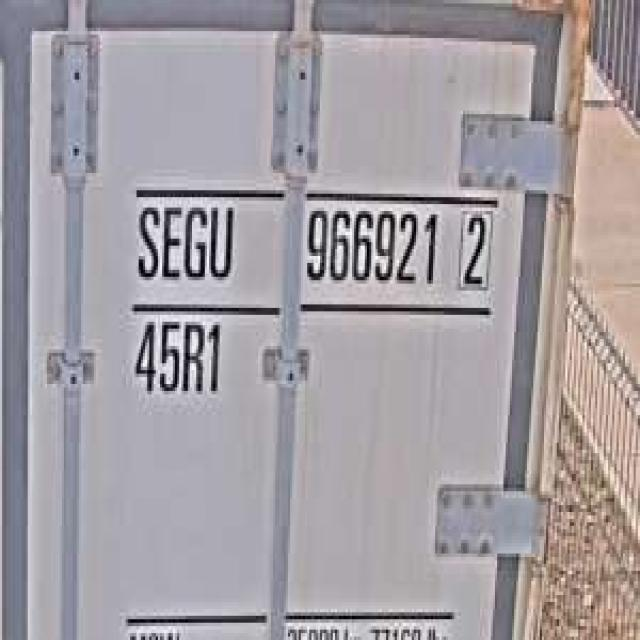dv: (452, 197, 499, 294)
owner: (130, 197, 239, 287)
serial: (303, 197, 442, 294)
size: (126, 311, 224, 405)
